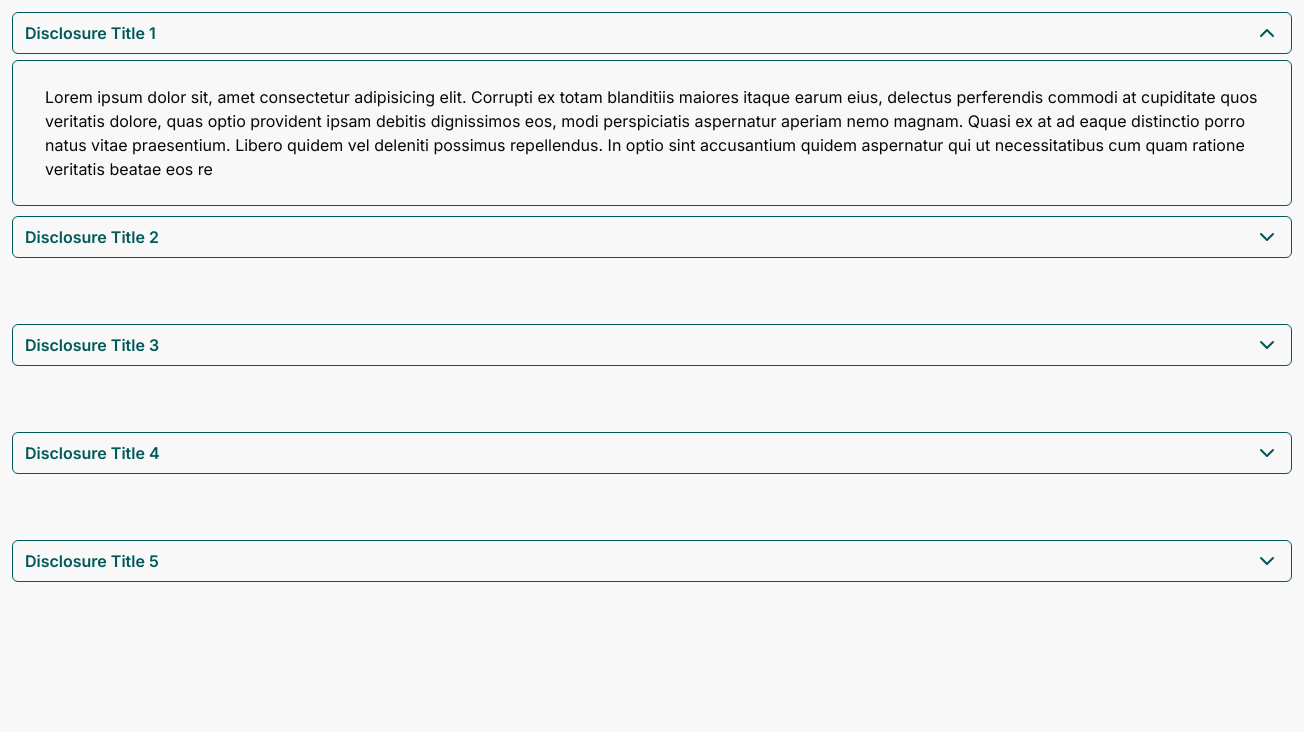
Test case: Accordion › Interaction › exclusive mode closes others on open
Click the 4th button at x=652, y=453, box [12,432,1292,474]
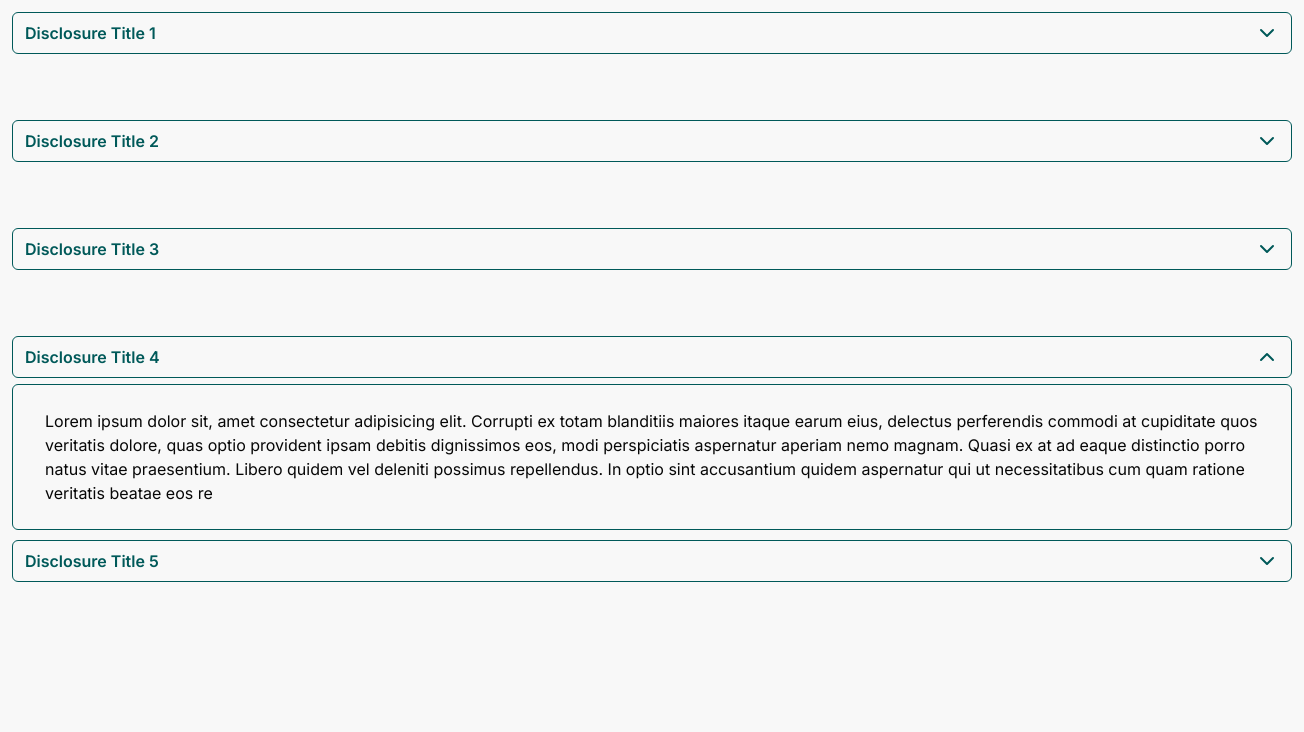
Expected: the 1st button is collapsed, [12,12,1292,54]
Expected: the 4th button is expanded, [12,336,1292,378]
